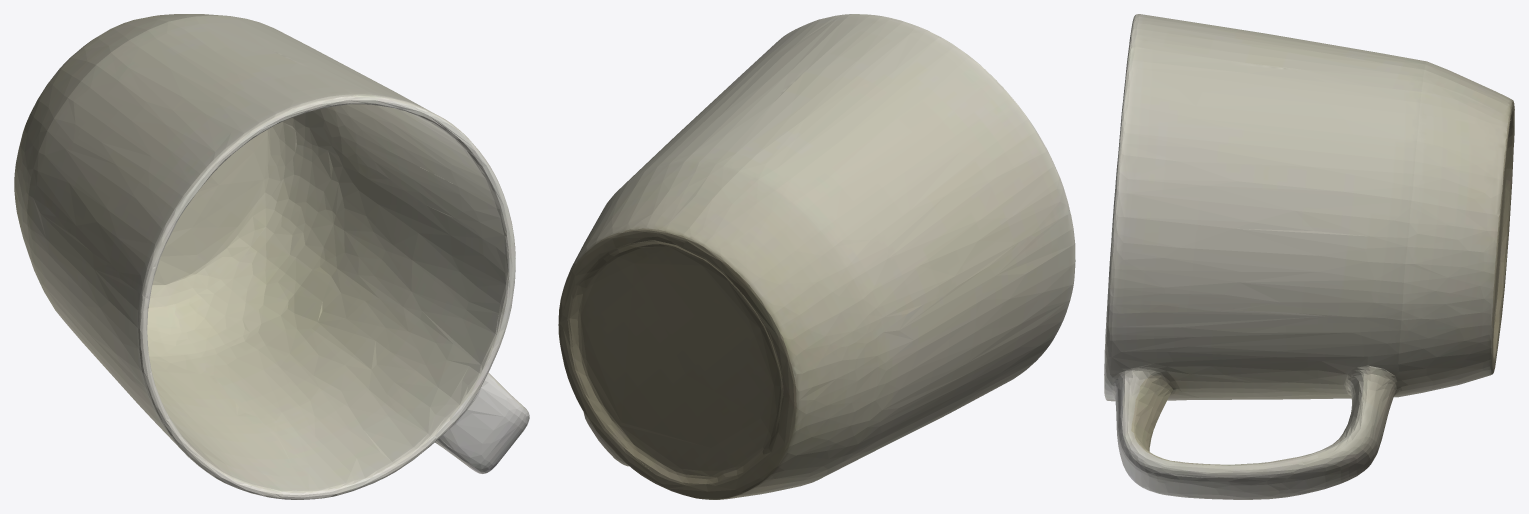
File: mug.glb
3 renders of one model, left to right at view 1: azimuth 30°, elevation 25°; view 2: azimuth 150°, elevation 25°; view 3: azimuth 270°, elevation 25°, orthographic. The views are drawn at different scales.
Visible parts, largest first — view 1: geometry_0; view 2: geometry_0; view 3: geometry_0.
Part boxes in pixels (box(x1,y1,x2,y2)): geometry_0: box(14, 14, 529, 499); geometry_0: box(558, 14, 1075, 499); geometry_0: box(1104, 14, 1514, 499).
Bounding box in the file's own units: 0.0959 × 0.0973 × 0.0929.
1 material, 1 textured.
